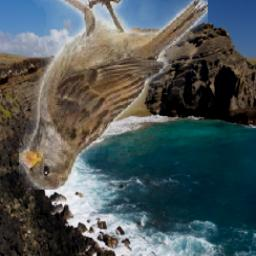Sparrow: (19, 0, 208, 190)
